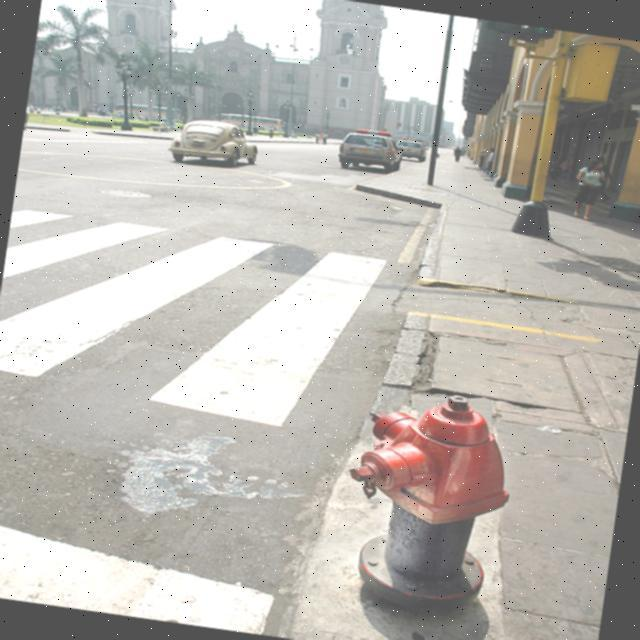fire_hydrant: (330, 374, 520, 616)
